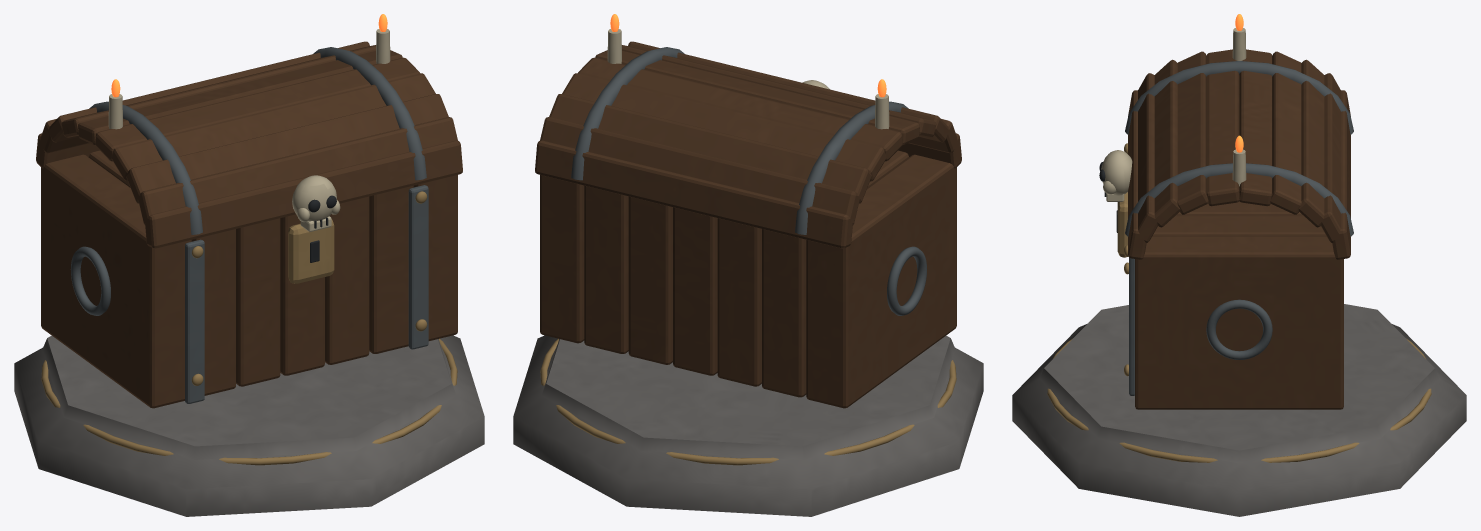
File: reliquary_vault.glb
3 renders of one model, left to right at view 1: azimuth 30°, elevation 25°; view 2: azimuth 150°, elevation 25°; view 3: azimuth 270°, elevation 25°, orthographic. The views are drawn at different scales.
Visible parts, largest first — view 1: reliquary_vault; view 2: reliquary_vault; view 3: reliquary_vault.
Boxes of the visible parts, <box> form: reliquary_vault: <box>14,14,484,516</box>; reliquary_vault: <box>513,14,983,516</box>; reliquary_vault: <box>1012,14,1466,516</box>.
Bounding box in the file's own units: 1.52 × 1.28 × 1.52.
7 materials, 6 textured.
